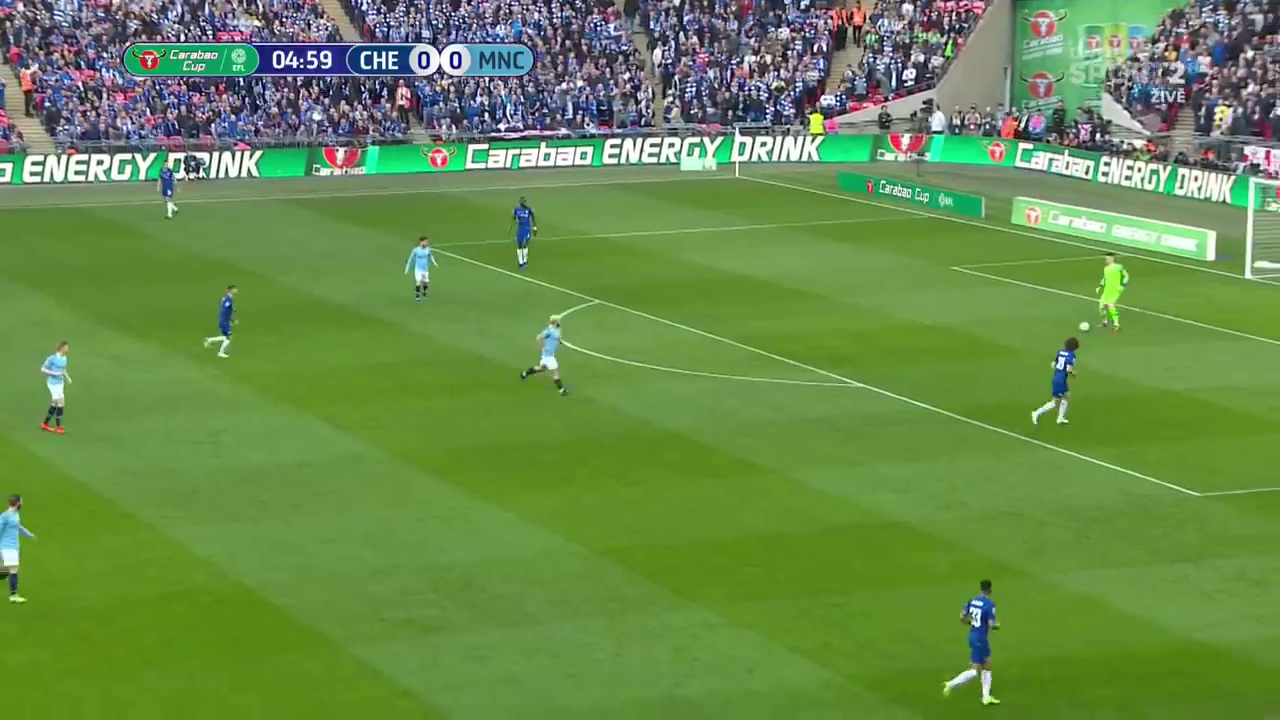ball: (1078, 321, 1089, 333)
player: (939, 579, 1006, 706), (1, 488, 43, 595), (1026, 334, 1072, 428), (520, 316, 570, 398), (39, 343, 75, 439), (400, 234, 441, 301), (1097, 247, 1130, 326), (202, 284, 237, 356), (508, 193, 535, 267), (157, 159, 180, 217)
